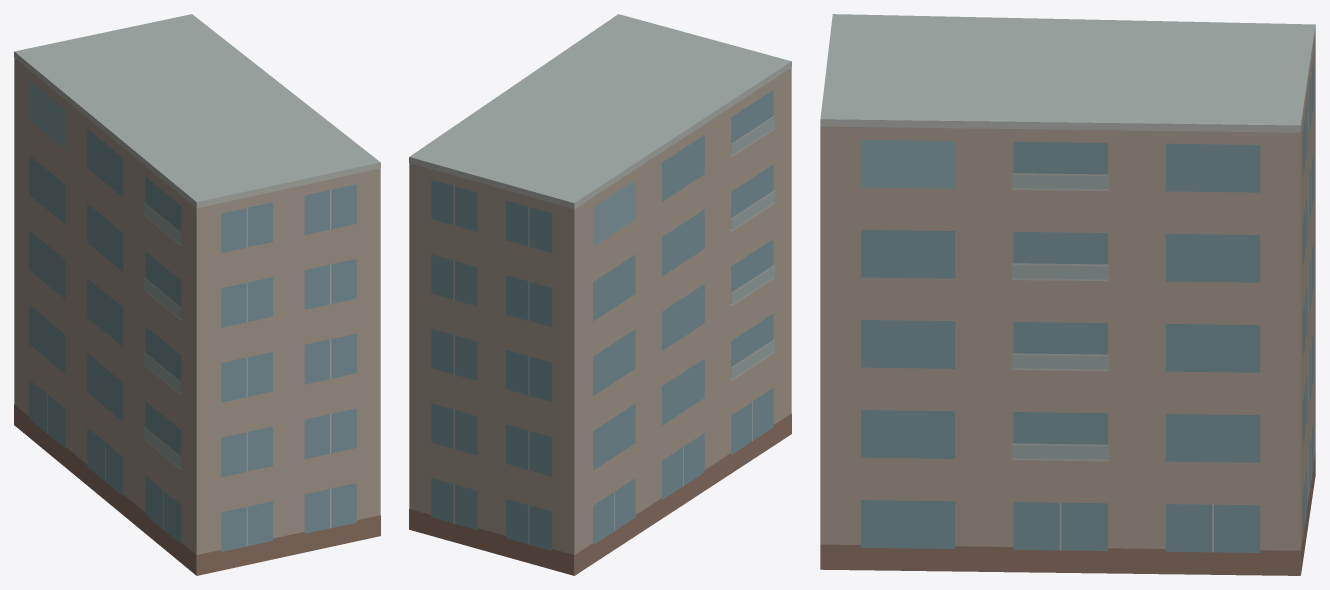
Rendered from survey-upis-32771590.glb.
The picture shows the model from 3 angles, left to right: view 1: azimuth 30°, elevation 25°; view 2: azimuth 150°, elevation 25°; view 3: azimuth 270°, elevation 25°; orthographic projection. The views are drawn at different scales.
Parts seen in each view (by area): view 1: survey-upis-32771590.tmp; view 2: survey-upis-32771590.tmp; view 3: survey-upis-32771590.tmp.
Boxes of the visible parts, bbox=[...] form: survey-upis-32771590.tmp: bbox=[14, 14, 380, 575]; survey-upis-32771590.tmp: bbox=[409, 14, 791, 575]; survey-upis-32771590.tmp: bbox=[820, 14, 1315, 575].
Size of the model in its own units: 8.02 by 15.1 by 15.06.
